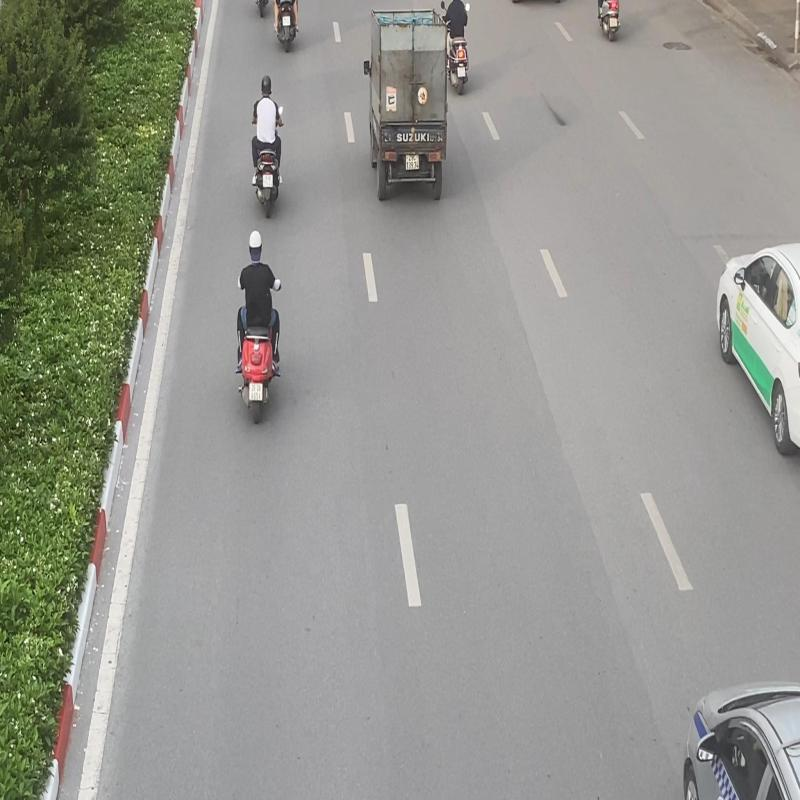helmet: (249, 230, 263, 264), (262, 76, 272, 96)
licenseplate: (248, 381, 264, 402), (263, 174, 273, 188)
motorcyclist: (235, 229, 284, 425), (250, 74, 284, 220)
